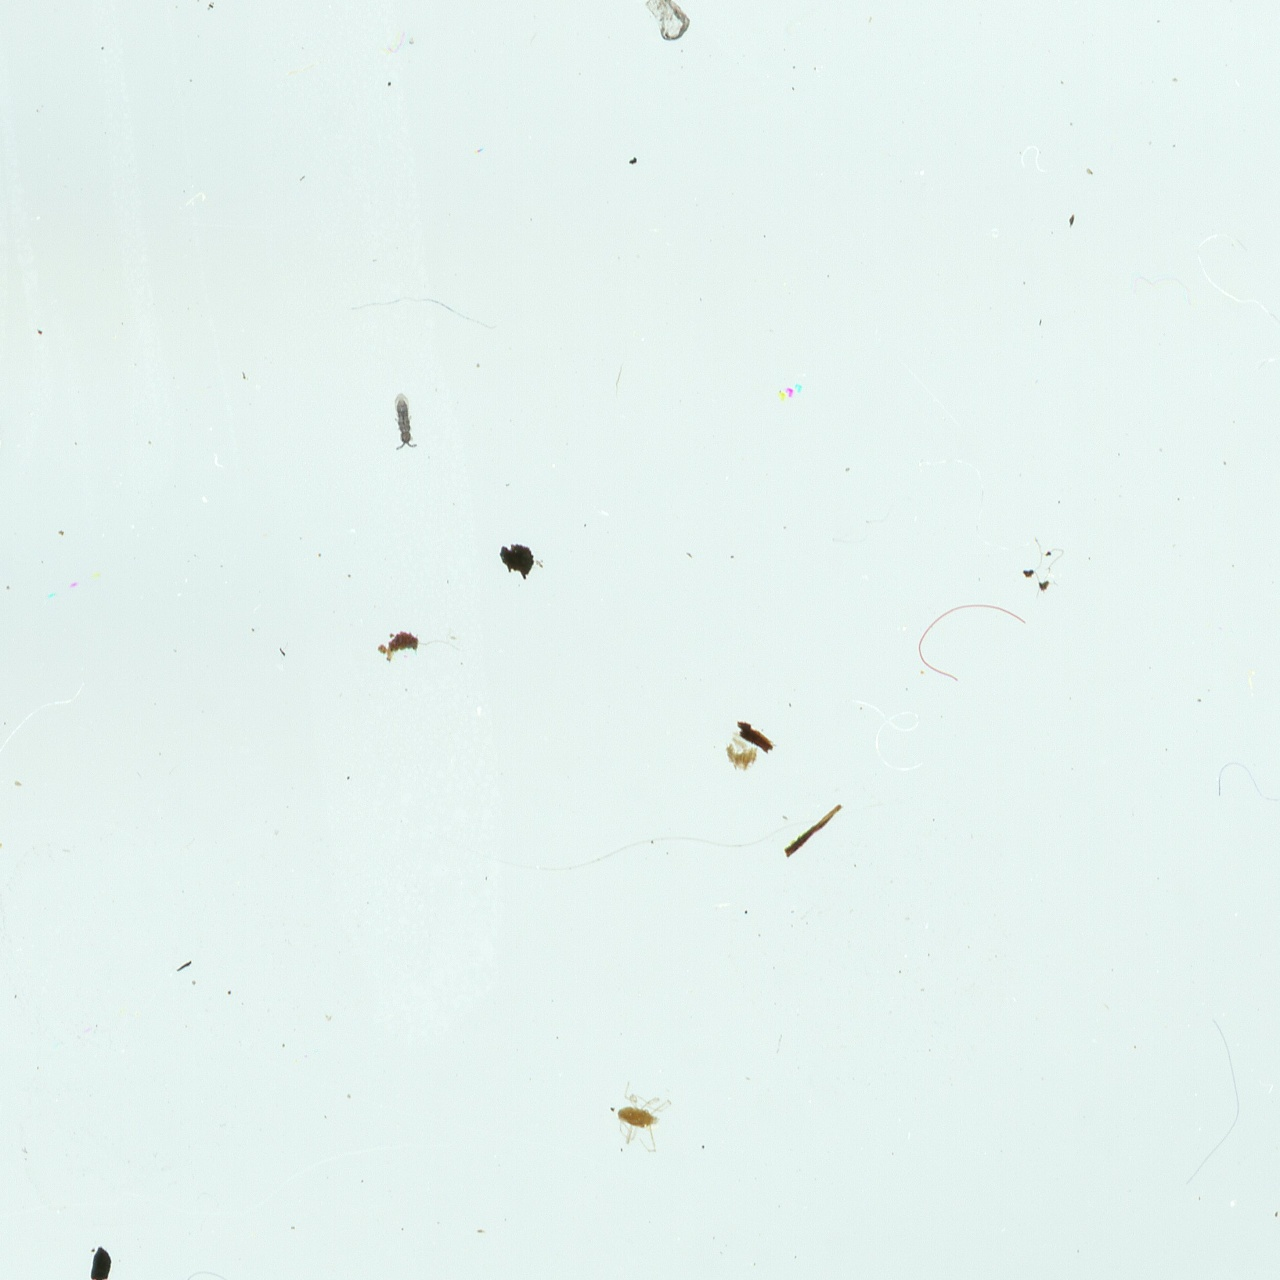arthropod: (608, 1078, 676, 1157), (388, 388, 422, 451)
